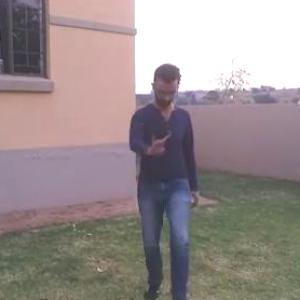takeoff-hand: (142, 124, 169, 159)
